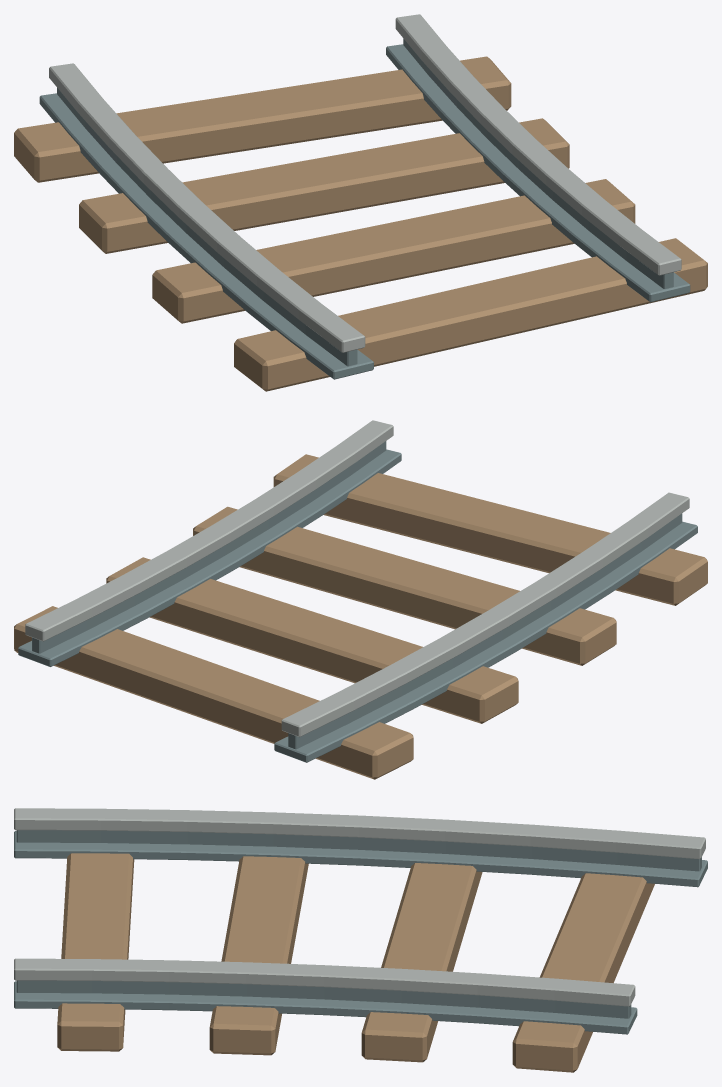
3 renders of one model, top to bottom at view 1: azimuth 30°, elevation 25°; view 2: azimuth 150°, elevation 25°; view 3: azimuth 270°, elevation 25°, orthographic. The views are drawn at different scales.
Visible parts, largest first — view 1: Radial sleeper.003, Radial sleeper, Radial sleeper.002, Radial sleeper.001, Curved rail head, Curved rail head.001, Curved rail foot, Curved rail foot.001, Curved rail web, Curved rail web.001; view 2: Radial sleeper, Radial sleeper.001, Radial sleeper.003, Radial sleeper.002, Curved rail head, Curved rail head.001, Curved rail foot, Curved rail foot.001, Curved rail web, Curved rail web.001; view 3: Curved rail head, Curved rail head.001, Radial sleeper.003, Radial sleeper.002, Radial sleeper.001, Radial sleeper, Curved rail foot, Curved rail web, Curved rail foot.001, Curved rail web.001.
Part boxes in pixels (x1,y1,x2,y2): Radial sleeper.003: (14, 56, 511, 182); Radial sleeper: (234, 238, 707, 391); Radial sleeper.002: (79, 118, 569, 253); Radial sleeper.001: (152, 179, 635, 323); Curved rail head: (49, 63, 365, 352); Curved rail head.001: (395, 14, 681, 275); Curved rail foot: (39, 93, 373, 379); Curved rail foot.001: (386, 44, 690, 302); Curved rail web: (57, 88, 357, 366); Curved rail web.001: (403, 38, 673, 288); Radial sleeper: (273, 454, 707, 605); Radial sleeper.001: (193, 506, 616, 665); Radial sleeper.003: (14, 606, 413, 779); Radial sleeper.002: (106, 557, 518, 723); Curved rail head: (281, 492, 689, 737); Curved rail head.001: (25, 420, 393, 641); Curved rail foot: (274, 521, 697, 762); Curved rail foot.001: (18, 449, 401, 666); Curved rail web: (288, 513, 682, 749); Curved rail web.001: (32, 441, 386, 653); Curved rail head: (14, 808, 705, 859); Curved rail head.001: (14, 958, 635, 1006); Radial sleeper.003: (512, 873, 654, 1072); Radial sleeper.002: (361, 863, 482, 1062); Radial sleeper.001: (209, 856, 308, 1055); Radial sleeper: (57, 853, 134, 1051); Curved rail foot: (14, 831, 707, 887); Curved rail web: (16, 830, 701, 871); Curved rail foot.001: (14, 981, 637, 1034); Curved rail web.001: (16, 980, 631, 1018).
Size of the model in its own units: 1.66 by 0.2 by 2.11.
